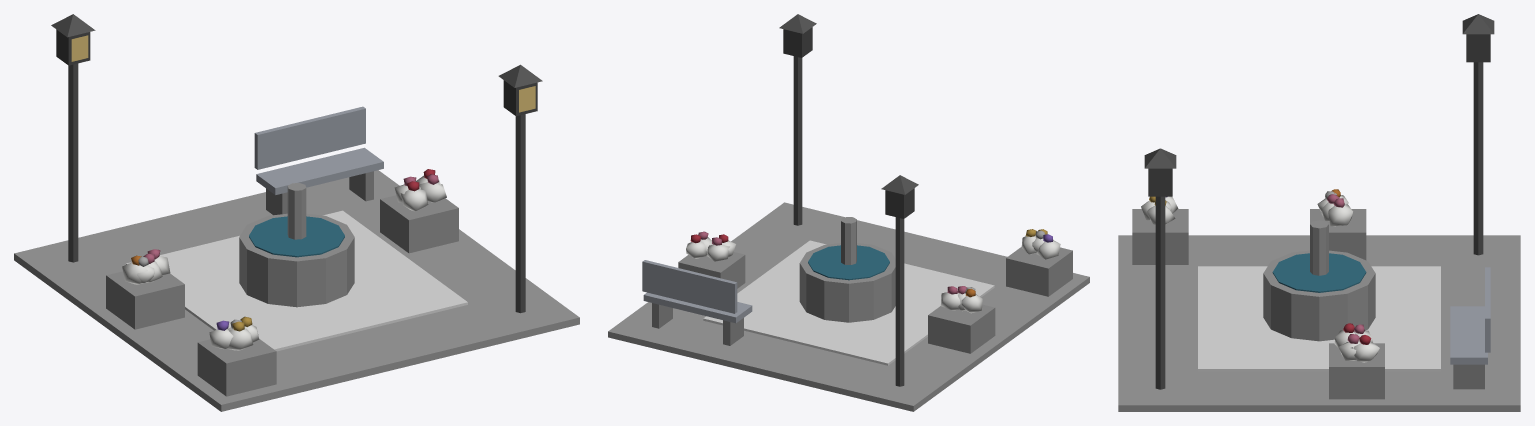
Rendered from road.glb.
The picture shows the model from 3 angles, left to right: view 1: azimuth 30°, elevation 25°; view 2: azimuth 150°, elevation 25°; view 3: azimuth 270°, elevation 25°; orthographic projection. The views are drawn at different scales.
Parts seen in each view (by area): view 1: road; view 2: road; view 3: road.
Part boxes in pixels (box(x1,y1,x2,y2)): road: box(14, 14, 579, 411); road: box(608, 14, 1089, 411); road: box(1118, 14, 1520, 411).
Bounding box in the file's own units: 4.3 × 2.9 × 4.3.
